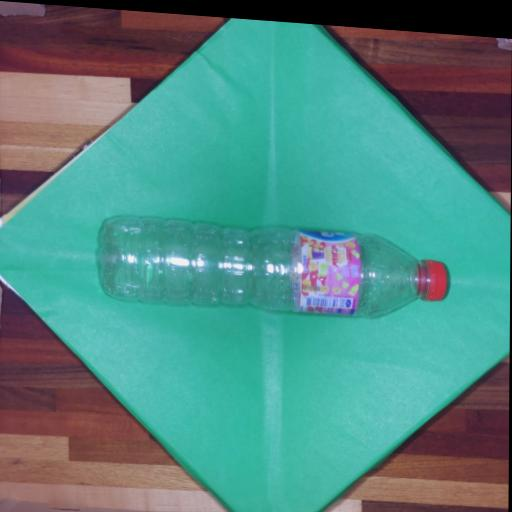bottle: (77, 199, 465, 338)
